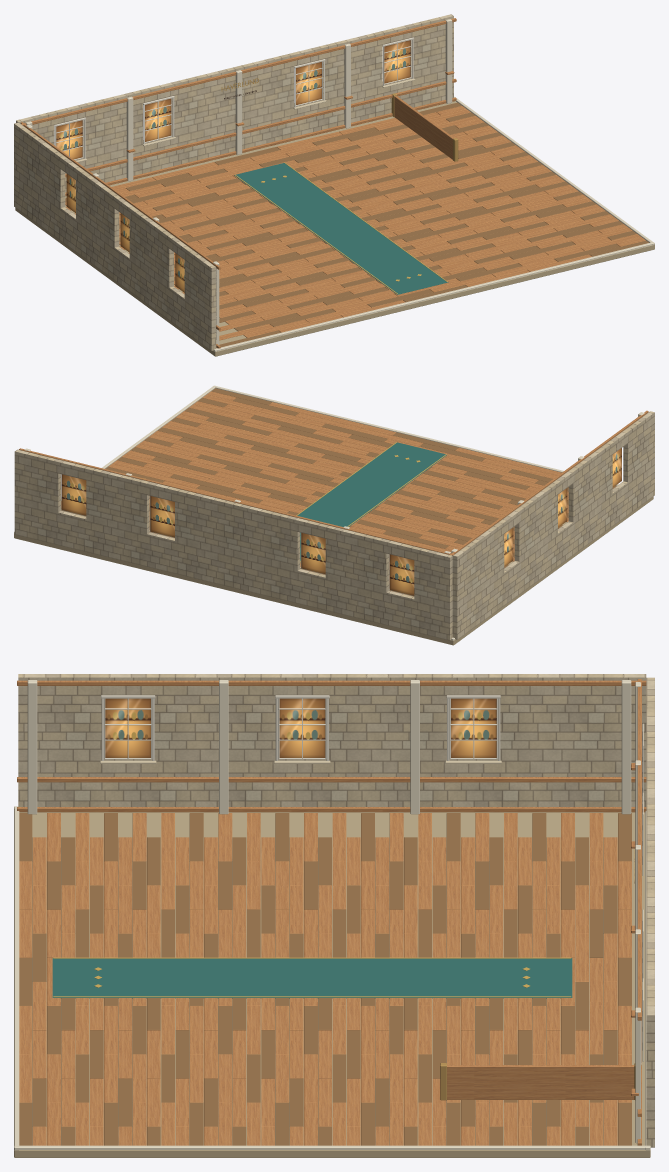
The picture shows the model from 3 angles, top to bottom: view 1: azimuth 30°, elevation 25°; view 2: azimuth 150°, elevation 25°; view 3: azimuth 270°, elevation 25°; orthographic projection. The views are drawn at different scales.
Visible parts, largest first — view 1: square_oak, square_ashlar, square_wood, square_teal, square_limestone_pale, square_window_shop, square_limestone_shade, square_white, square_gold.001; view 2: square_ashlar, square_oak, square_wood, square_teal, square_window_shop, square_limestone_shade, square_limestone_pale; view 3: square_oak, square_ashlar, square_wood, square_limestone_shade, square_teal, square_limestone_pale, square_window_shop, square_white, square_gold.001.
Part boxes in pixels (x1,y1,x2,y2): square_oak: (20,18,645,348); square_ashlar: (14,14,453,350); square_wood: (65,102,648,347); square_teal: (234,163,448,294); square_limestone_pale: (26,19,654,351); square_window_shop: (56,40,410,292); square_limestone_shade: (15,101,654,356); square_white: (54,37,413,159); square_gold.001: (235,162,447,294); square_ashlar: (14,411,654,640); square_oak: (19,391,648,596); square_wood: (61,388,616,587); square_teal: (297,442,446,562); square_window_shop: (61,448,621,595); square_limestone_shade: (14,496,653,645); square_limestone_pale: (14,385,644,640); square_oak: (17,679,646,1145); square_ashlar: (18,674,654,1147); square_wood: (19,813,631,1145); square_limestone_shade: (14,811,650,1157); square_teal: (52,958,572,998); square_limestone_pale: (14,680,650,1150); square_window_shop: (105,698,496,757); square_white: (101,695,643,1063); square_gold.001: (53,957,571,997).
Bounding box in the file's own units: 28.45 × 5.44 × 22.45.
Materials: 12 (3 with a texture image).
